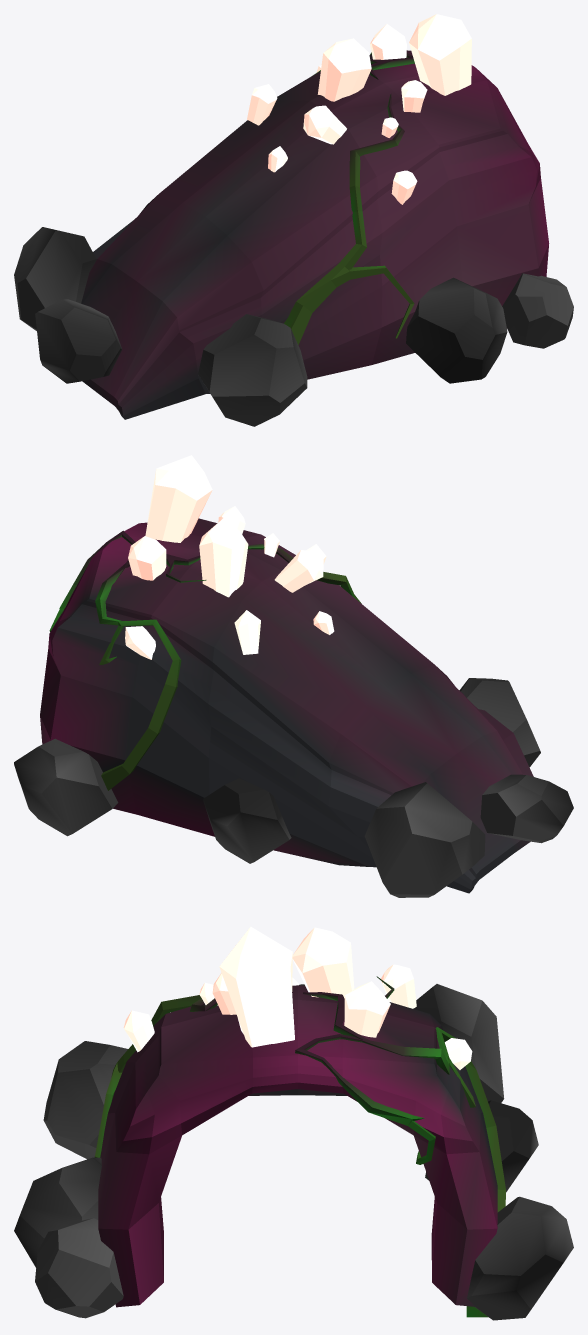
Rendered from Spawnner_Burrow.fbx.
3 renders of one model, top to bottom at view 1: azimuth 30°, elevation 25°; view 2: azimuth 150°, elevation 25°; view 3: azimuth 270°, elevation 25°, orthographic. The views are drawn at different scales.
Visible parts, largest first — view 1: Cube.007, Sphere, Cube.001, Vert; view 2: Cube.007, Sphere, Cube.001, Vert; view 3: Cube.007, Sphere, Cube.001, Vert.
Part boxes in pixels (box(x1,y1,x2,y2)): Cube.007: box(81, 50, 549, 419); Sphere: box(14, 227, 573, 426); Cube.001: box(247, 14, 471, 204); Vert: box(284, 52, 414, 344); Cube.007: box(40, 518, 533, 893); Sphere: box(14, 678, 573, 897); Cube.001: box(125, 455, 334, 659); Vert: box(49, 530, 361, 790); Cube.007: box(98, 985, 497, 1307); Sphere: box(14, 984, 573, 1320); Cube.001: box(123, 926, 472, 1069); Vert: box(94, 976, 505, 1317).
Bounding box in the file's own units: 1193 × 780 × 1018.
